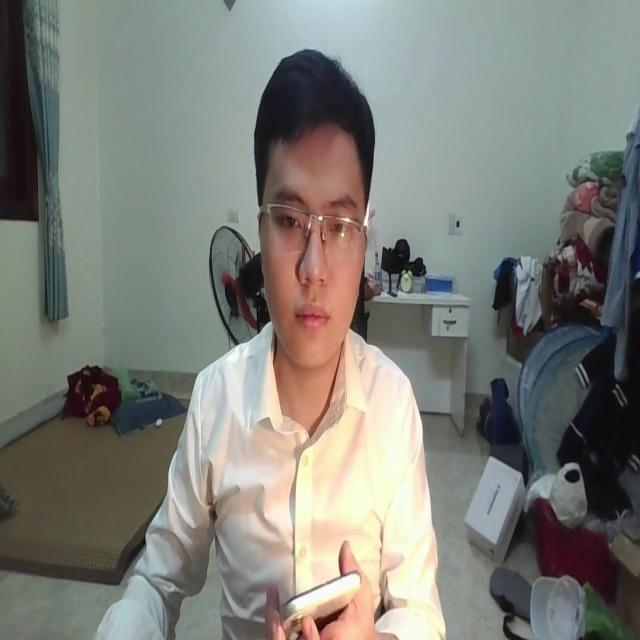phone: (268, 565, 362, 627)
student: (95, 59, 446, 640)
